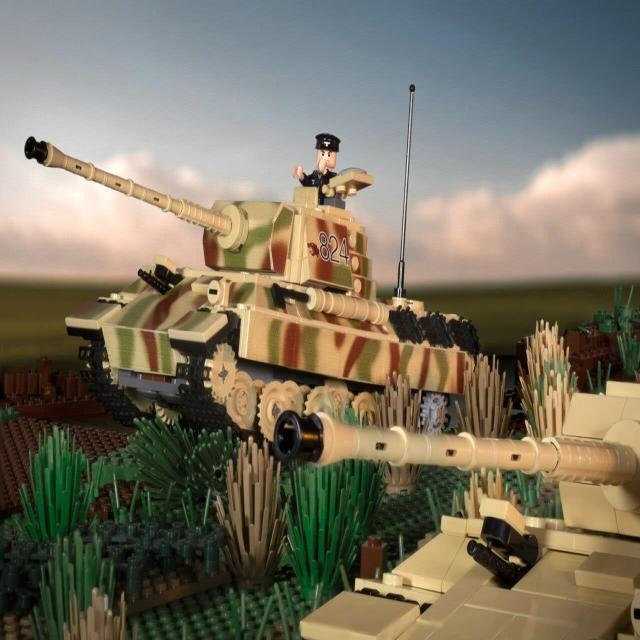Tanks: (84, 134, 492, 408), (275, 418, 577, 632)
